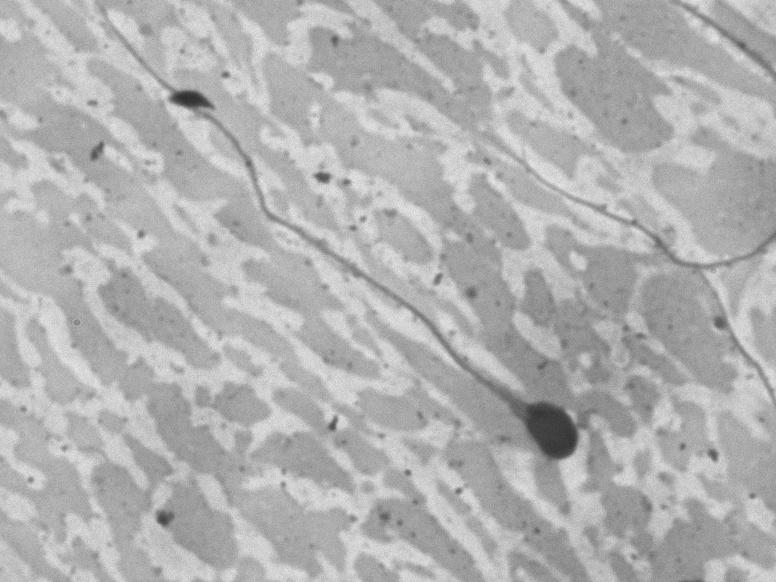Abnormal: (98, 17, 597, 482)
